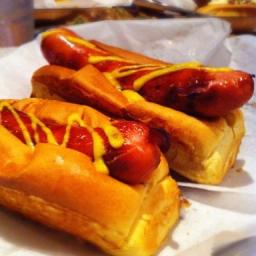hotdog: (42, 24, 254, 108), (0, 103, 172, 176)
